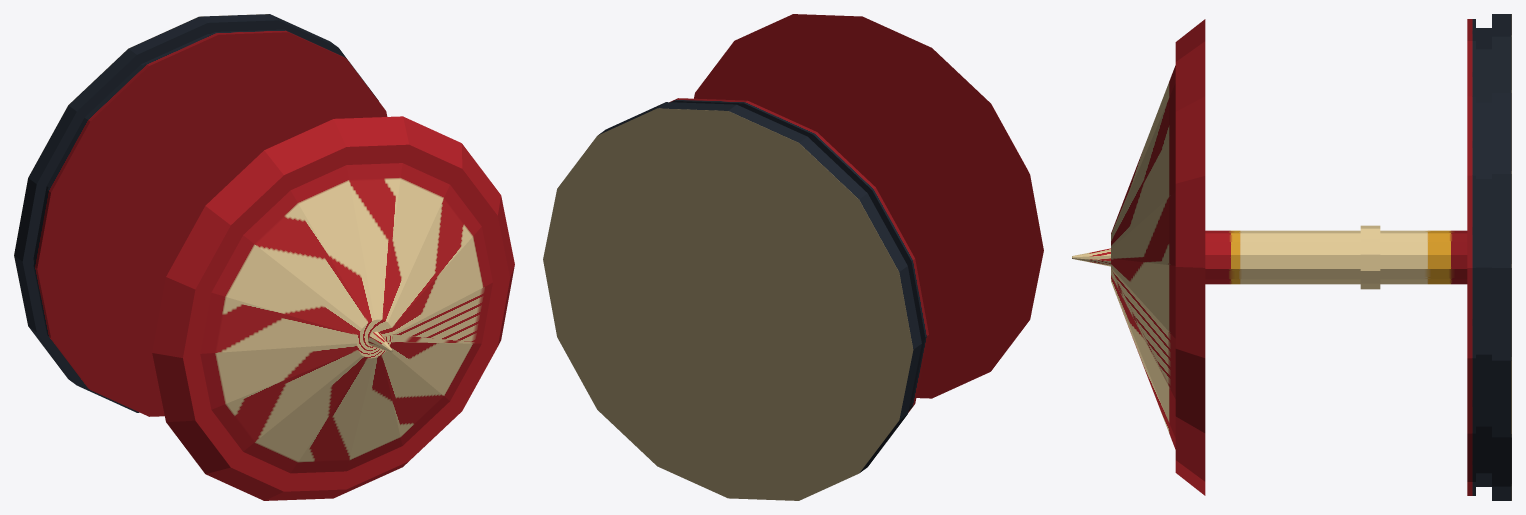
Rendered from Carousel_Body_Blender.obj.
The picture shows the model from 3 angles, left to right: view 1: azimuth 30°, elevation 25°; view 2: azimuth 150°, elevation 25°; view 3: azimuth 270°, elevation 25°; orthographic projection. The views are drawn at different scales.
Parts seen in each view (by area): view 1: Carousel_Body; view 2: Carousel_Body; view 3: Carousel_Body.
Boxes of the visible parts, box(x1,y1,x2,y2) form: Carousel_Body: box(14, 14, 514, 500); Carousel_Body: box(543, 14, 1043, 500); Carousel_Body: box(1072, 14, 1511, 500).
Size of the model in its own units: 6.9 by 6.9 by 6.22.
1 material, 1 textured.
